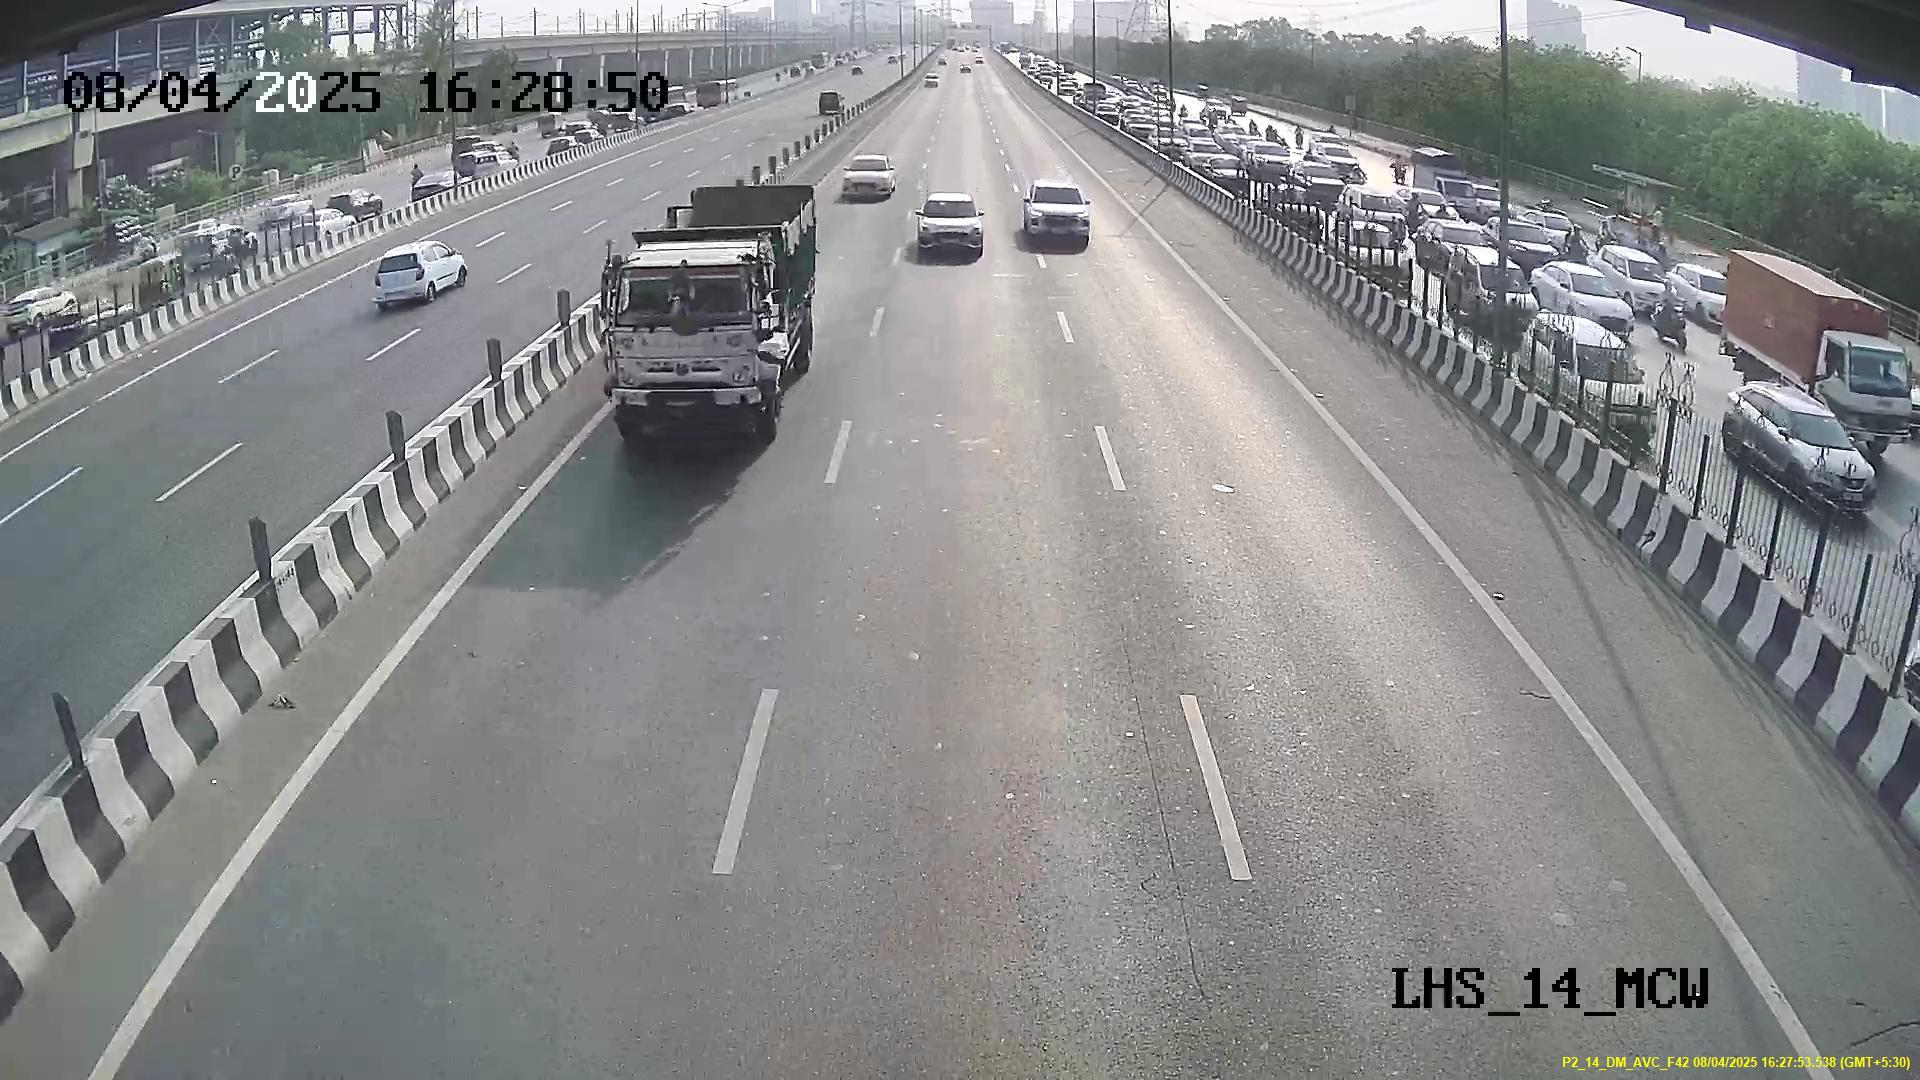truck: (601, 236, 791, 440)
